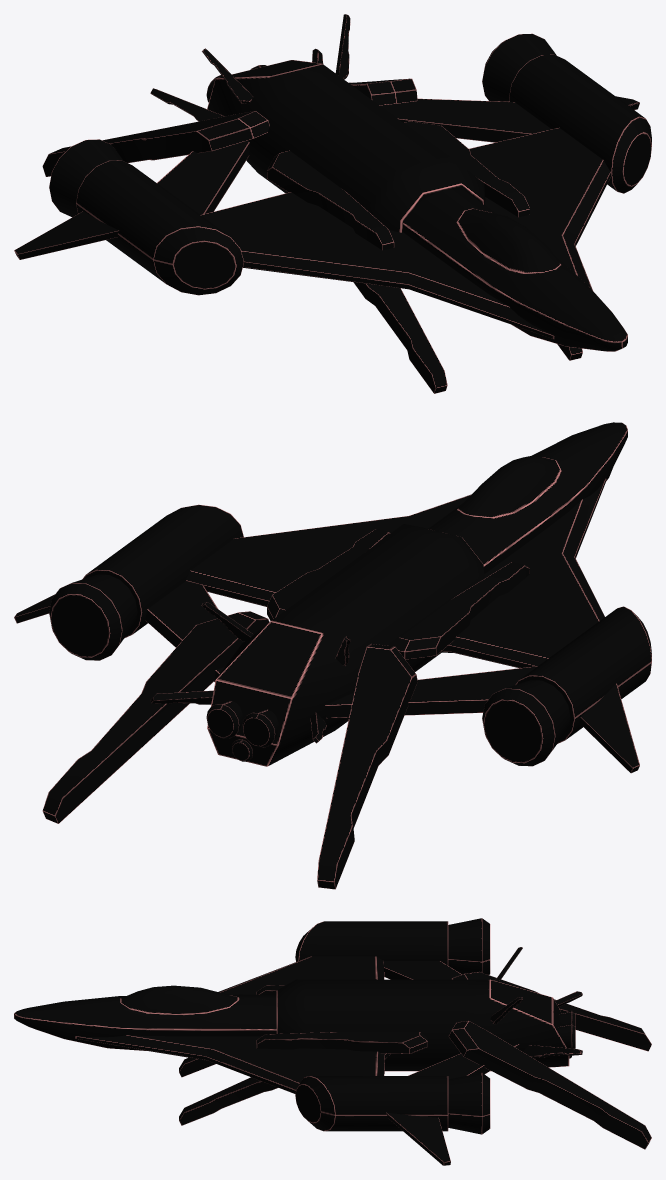
Rendered from arrow.obj.
The picture shows the model from 3 angles, top to bottom: view 1: azimuth 30°, elevation 25°; view 2: azimuth 150°, elevation 25°; view 3: azimuth 270°, elevation 25°; orthographic projection. The views are drawn at different scales.
Visible parts, largest first — view 1: StarSparrow06; view 2: StarSparrow06; view 3: StarSparrow06.
Part boxes in pixels (box(x1,y1,x2,y2)): StarSparrow06: box(14, 14, 651, 393); StarSparrow06: box(14, 422, 651, 889); StarSparrow06: box(14, 918, 651, 1165).
Bounding box in the file's own units: 10.75 × 2.88 × 13.02.
1 material, 1 textured.
